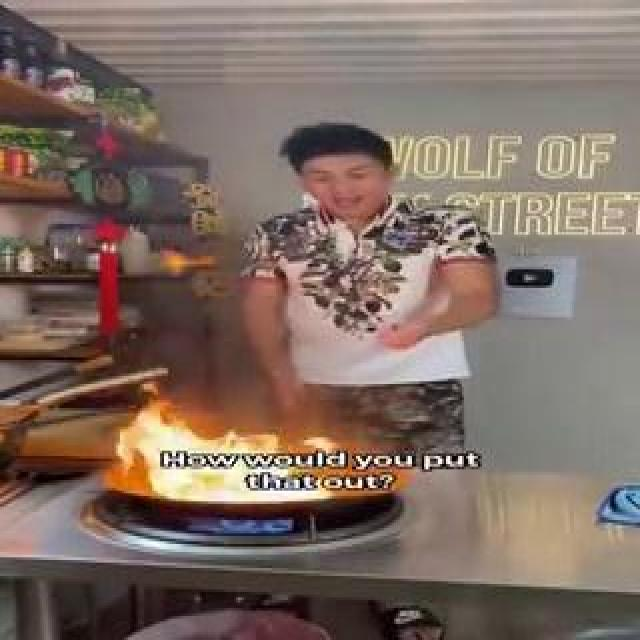Fire: (229, 334, 406, 338)
